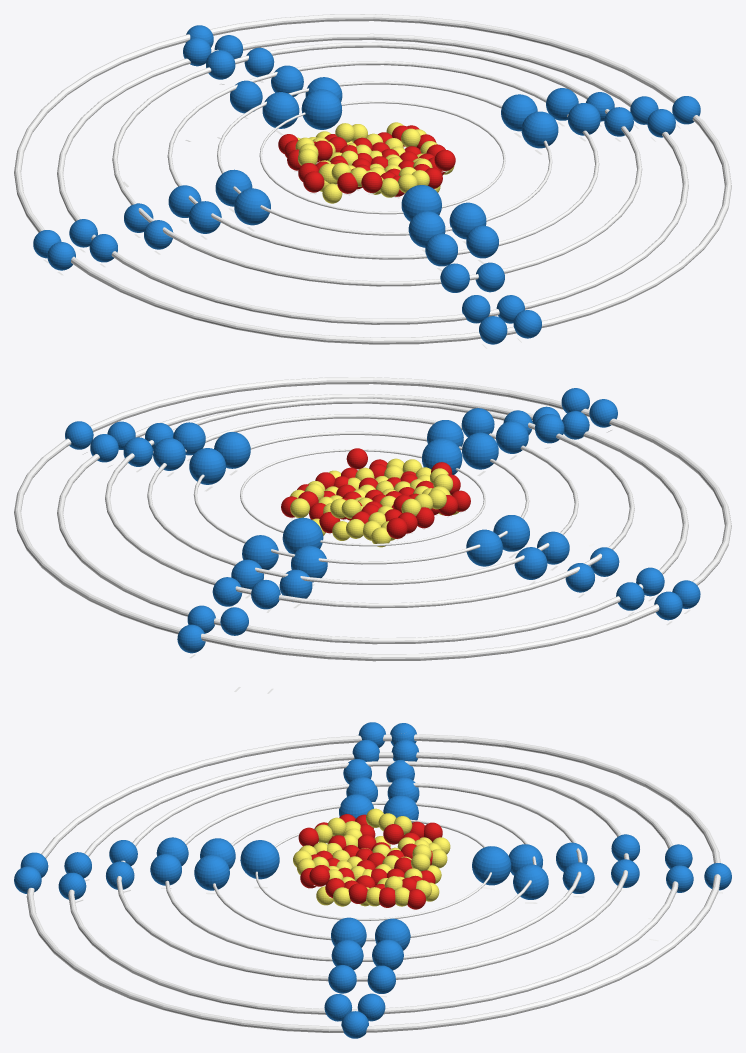
3 views of the same model, one above another, from view 1: azimuth 30°, elevation 25°; view 2: azimuth 150°, elevation 25°; view 3: azimuth 270°, elevation 25° (orthographic). The views are drawn at different scales.
Parts seen in each view (by area): view 1: Torus.006, Torus.005, Torus.004, Torus.003, Torus.002, Torus.001, g, g.005, g.003, g.001, g.008, g.007 (+29 smaller); view 2: Torus.006, Torus.005, Torus.004, Torus.003, Torus.002, Torus.001, g, g.006, g.004, g.002, g.001, g.005 (+30 smaller); view 3: Torus.006, Torus.005, Torus.004, Torus.003, Torus.002, g.001, g, Torus.001, g.007, g.009, g.015, g.005 (+27 smaller).
Part boxes in pixels (x1,y1,x2,y2): Torus.006: (14, 14, 731, 344); Torus.005: (57, 33, 688, 324); Torus.004: (112, 42, 642, 286); Torus.003: (167, 61, 599, 259); Torus.002: (217, 81, 552, 235); Torus.001: (259, 101, 505, 214); g: (301, 89, 342, 129); g.005: (521, 111, 558, 148); g.003: (234, 188, 270, 225); g.001: (401, 185, 441, 221); g.008: (262, 92, 299, 128); g.007: (449, 202, 486, 239); Torus.006: (14, 377, 731, 661); Torus.005: (57, 394, 688, 644); Torus.004: (105, 398, 634, 608); Torus.003: (147, 414, 578, 584); Torus.002: (193, 431, 529, 564); Torus.001: (240, 449, 485, 546); g: (282, 517, 323, 553); g.006: (462, 432, 498, 469); g.004: (189, 448, 225, 484); g.002: (466, 529, 502, 566); g.001: (422, 438, 462, 474); g.005: (214, 432, 250, 468); Torus.006: (26, 734, 720, 1032); Torus.005: (68, 752, 678, 1014); Torus.004: (116, 761, 629, 981); Torus.003: (165, 782, 582, 961); Torus.002: (213, 801, 536, 941); g.001: (240, 840, 279, 879); g: (472, 846, 511, 885); Torus.001: (255, 819, 491, 920); g.007: (194, 855, 229, 890); g.009: (513, 864, 548, 899); g.015: (150, 854, 181, 885); g.005: (331, 917, 366, 947).
Bounding box in the file's own units: 18.05 × 2.92 × 18.08.
